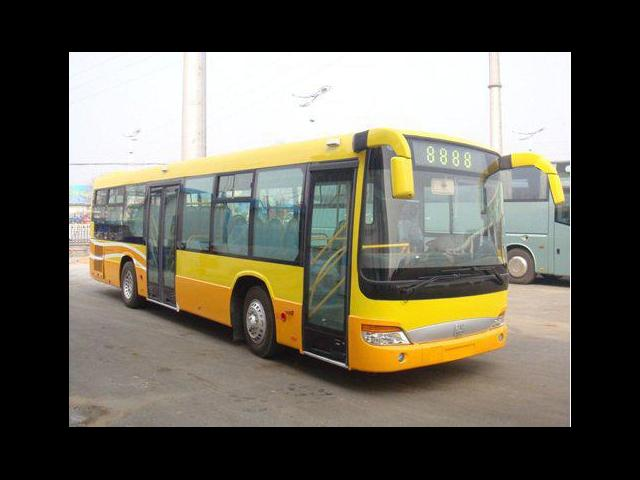bus: (83, 126, 567, 386)
